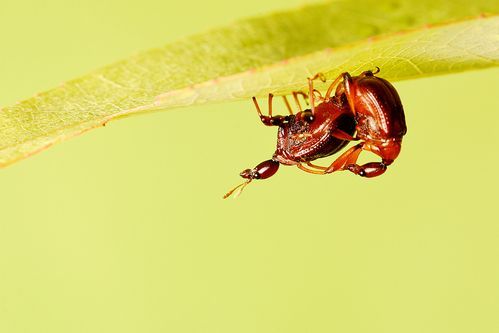Curculionidae: (220, 73, 357, 201), (277, 65, 408, 178)
